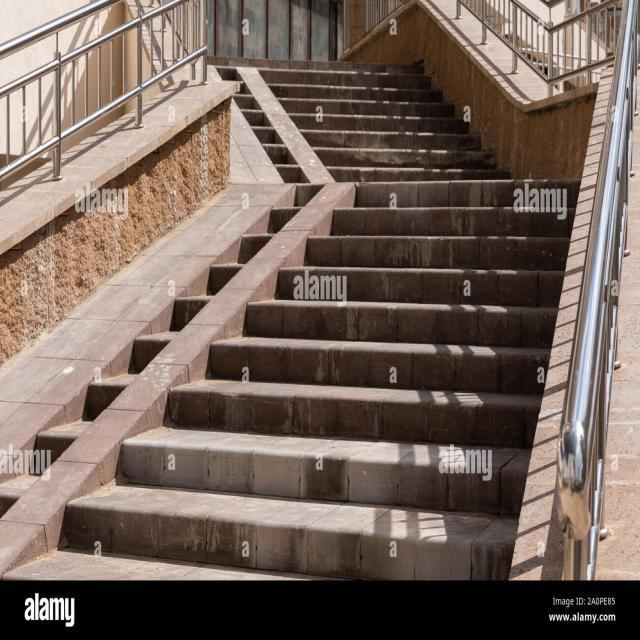stairs: (1, 54, 591, 582)
